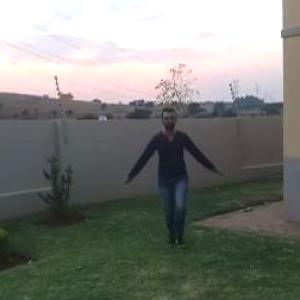land: (122, 107, 222, 249)
